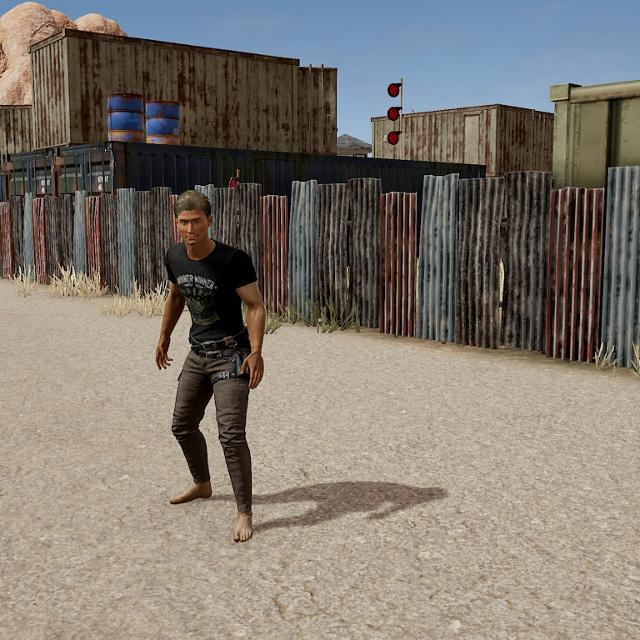head: (170, 189, 217, 250)
people: (154, 188, 269, 546)
